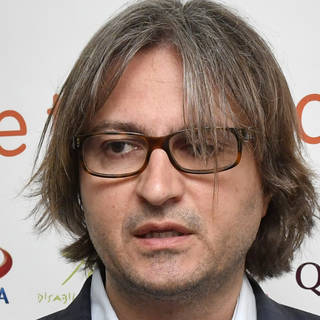eye: (95, 138, 143, 163)
